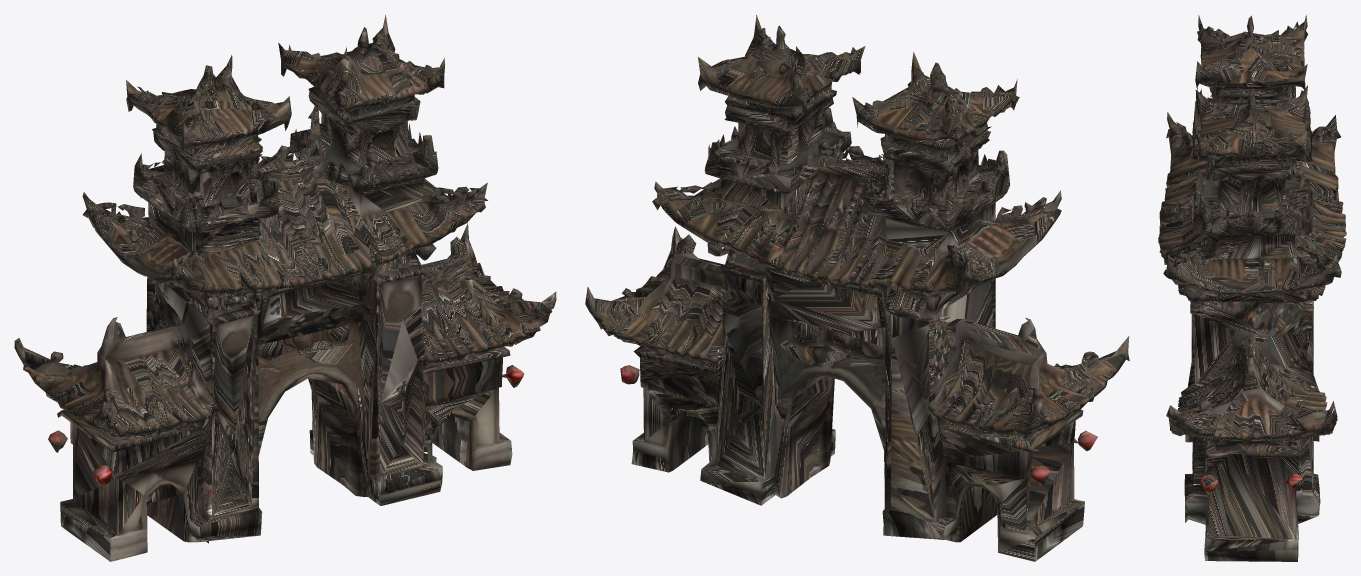
File: Dark_oriental_gateway.glb
3 views of the same model, side by side, from view 1: azimuth 30°, elevation 25°; view 2: azimuth 150°, elevation 25°; view 3: azimuth 270°, elevation 25° (orthographic). The views are drawn at different scales.
Parts seen in each view (by area): view 1: Dark_oriental_gateway; view 2: Dark_oriental_gateway; view 3: Dark_oriental_gateway.
Boxes of the visible parts, <box> form: Dark_oriental_gateway: <box>14,15,556,561</box>; Dark_oriental_gateway: <box>585,15,1129,561</box>; Dark_oriental_gateway: <box>1158,15,1346,561</box>.
Bounding box in the file's own units: 2 × 1.88 × 0.7664.
1 material, 1 textured.
